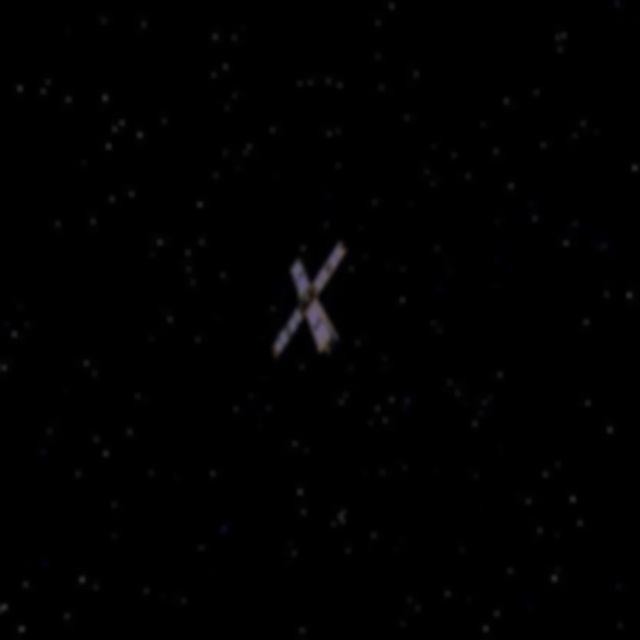medium_debris: (263, 244, 359, 362)
